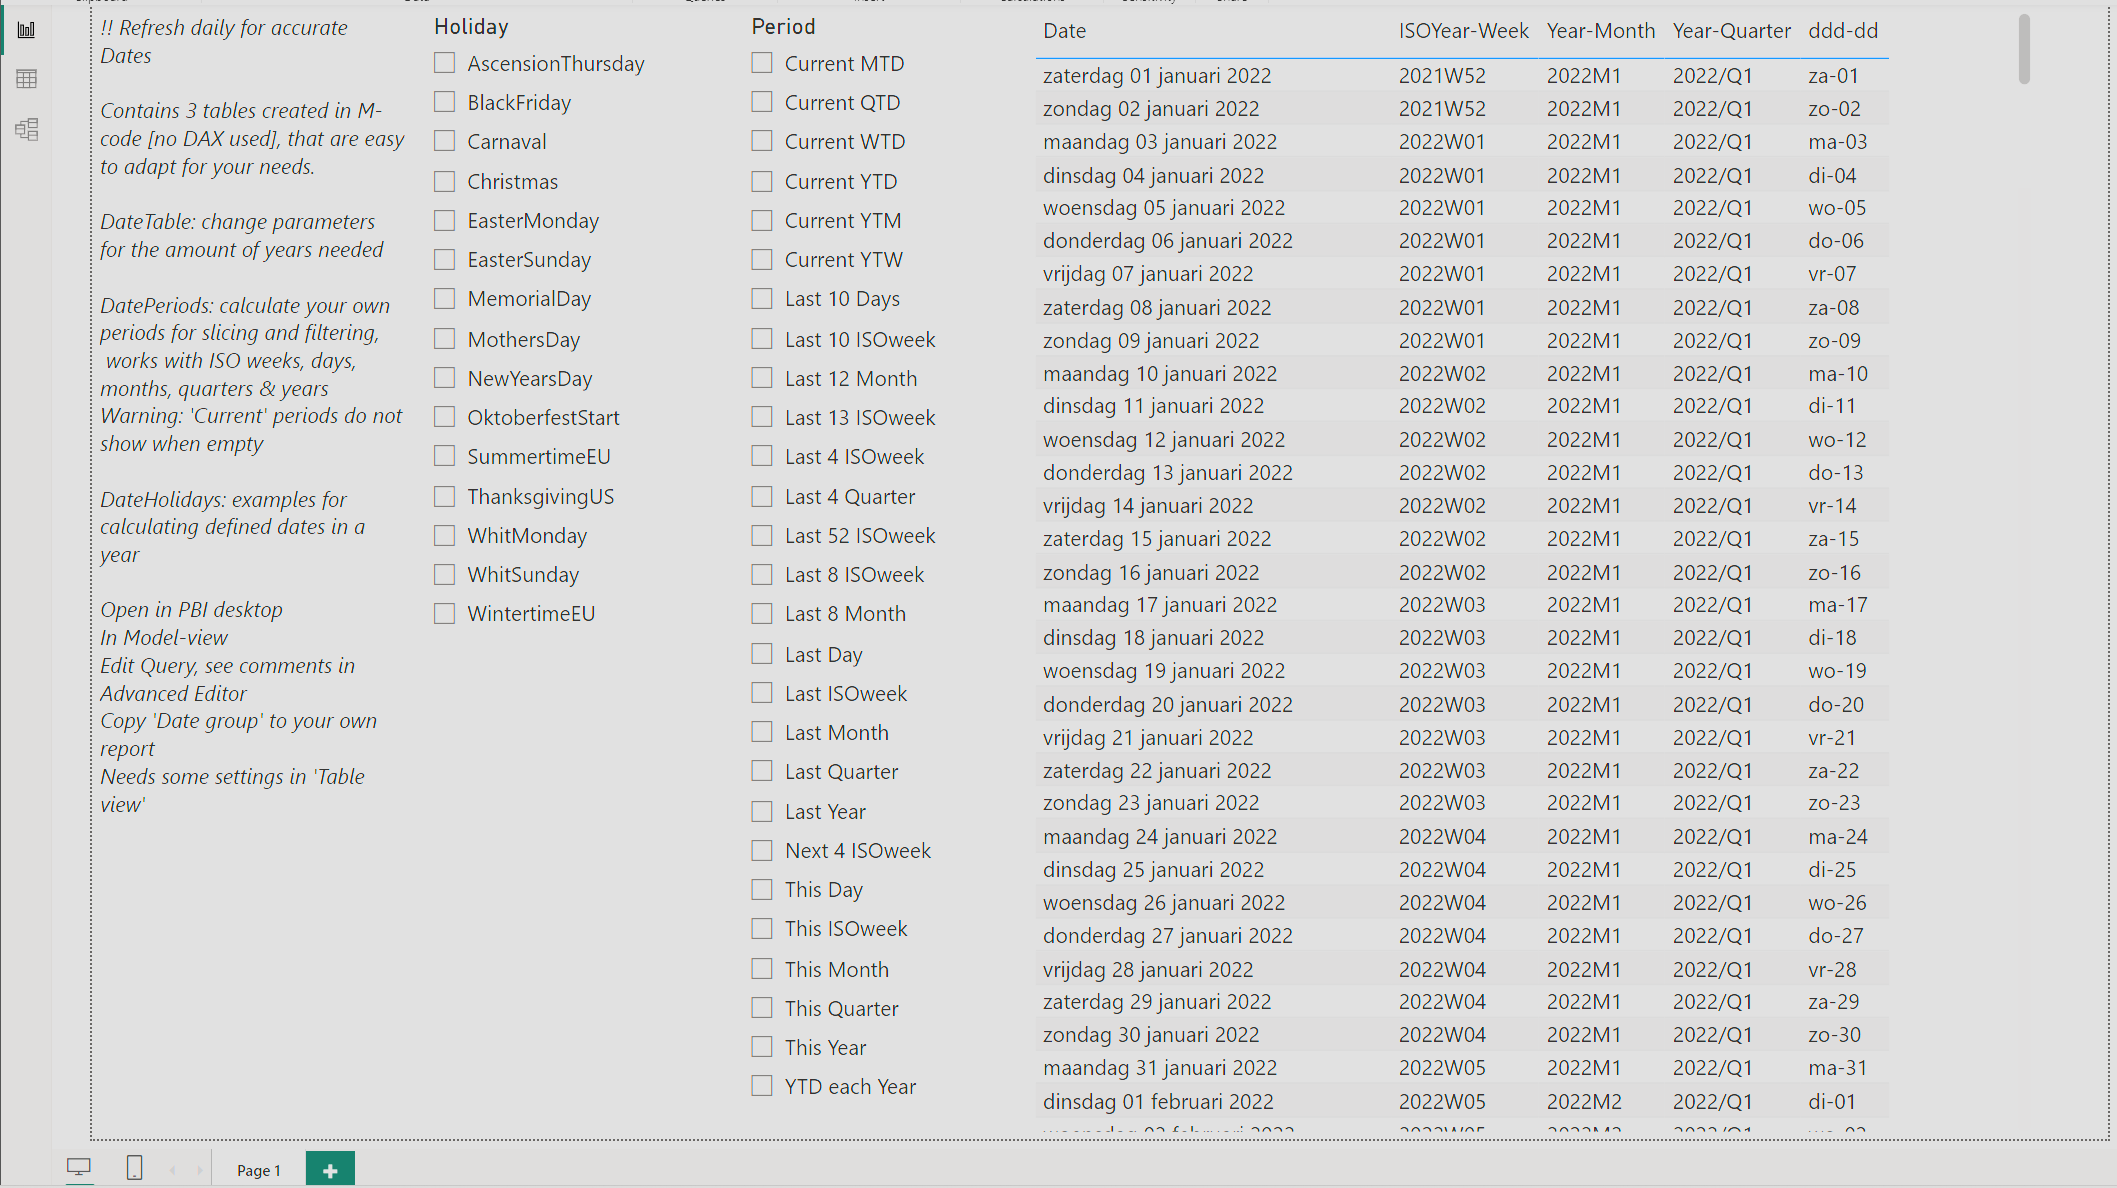

What the dashboard file says about the page in this screenshot:
{"tool":"powerbi","page":{"name":"Slicer examples","canvas":[1280,720],"ordinal":0},"visuals":[{"type":"textbox","box":[0,0,203.6,720.1],"z":0},{"type":"slicer","fields":{"Values":["DatePeriods.Period"]},"box":[405.8,0,187.2,720.1],"z":1000},{"type":"slicer","fields":{"Values":["DateHolidays.Holiday"]},"box":[203.6,0,202.2,720.1],"z":2000},{"type":"tableEx","fields":{"Values":["DateTable.Date","DateTable.ISOYear-Week","DateTable.Year-Month","DateTable.Year-Quarter","DateTable.ddd-dd"]},"box":[593,0,643.6,720.1],"z":3000}]}

Visuals, with their boxes on the page's 1280x720 design canvas (x1, y1, x2, y2). These are canvas units, not pixel positions in the 2117x1188 screenshot, which may show the page scaled, cropped or inside an application window:
textbox: {"left": 0, "top": 0, "right": 204, "bottom": 720}
slicer - DatePeriods.Period: {"left": 406, "top": 0, "right": 593, "bottom": 720}
slicer - DateHolidays.Holiday: {"left": 204, "top": 0, "right": 406, "bottom": 720}
tableEx - DateTable.Date x DateTable.ISOYear-Week: {"left": 593, "top": 0, "right": 1237, "bottom": 720}
